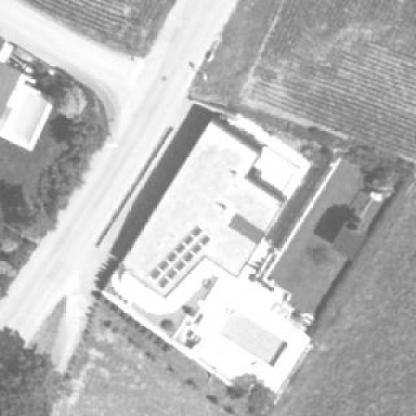solar-pv-panel: (148, 225, 204, 281), (157, 233, 212, 290)
